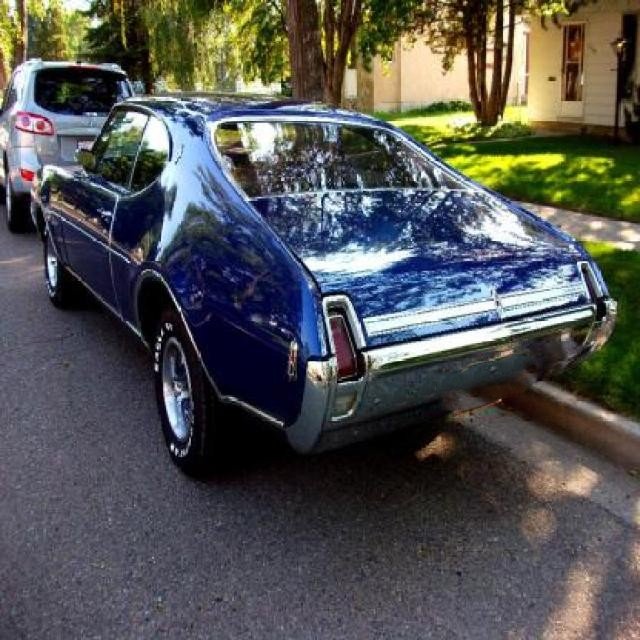car: (34, 90, 612, 477), (2, 58, 127, 218)
